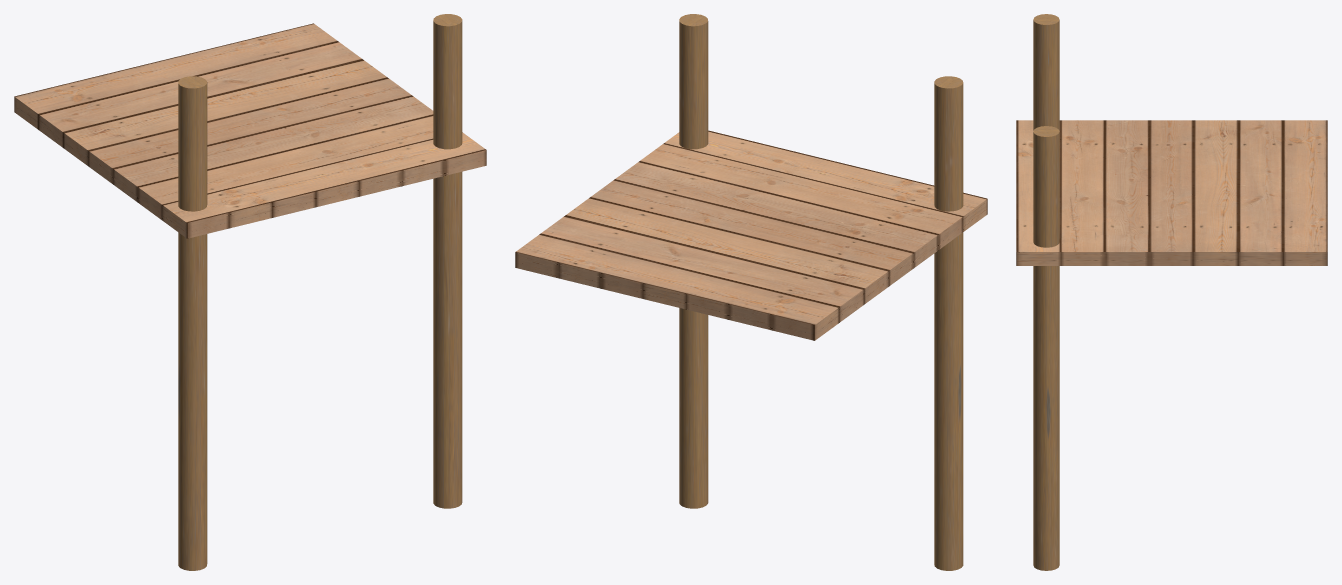
Rendered from WoodRoad2.fbx.
3 views of the same model, side by side, from view 1: azimuth 30°, elevation 25°; view 2: azimuth 150°, elevation 25°; view 3: azimuth 270°, elevation 25° (orthographic). The views are drawn at different scales.
Parts seen in each view (by area): view 1: WoodRoad2; view 2: WoodRoad2; view 3: WoodRoad2.
Part boxes in pixels (<box>): WoodRoad2: <box>14,14,486,570</box>; WoodRoad2: <box>515,14,987,570</box>; WoodRoad2: <box>1016,14,1327,570</box>.
Size of the model in its own units: 200 by 308 by 200.
